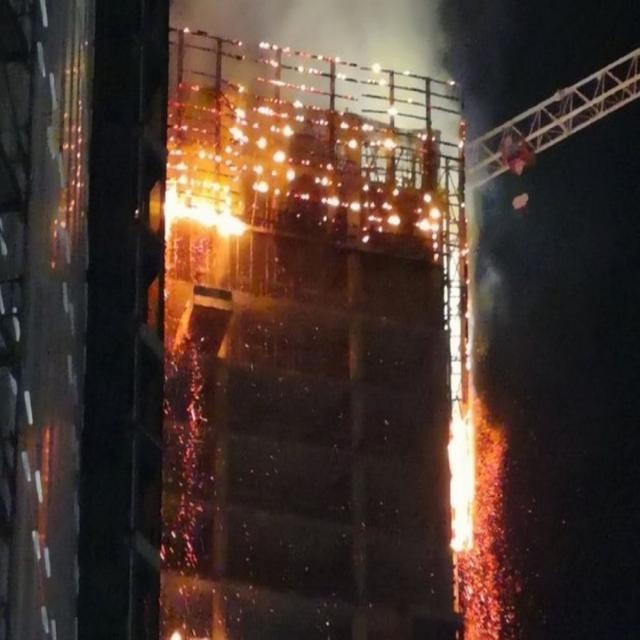Fire: (164, 154, 250, 240), (444, 394, 480, 552)
Smoke: (441, 0, 640, 640)
